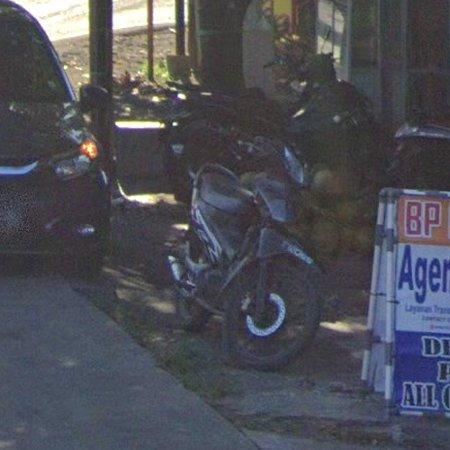motorcycles: (164, 138, 324, 370)
